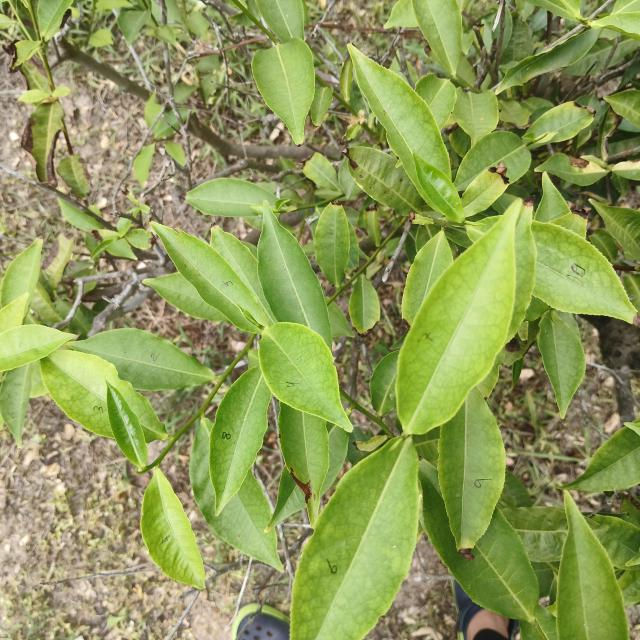Leaf: (396, 209, 517, 434), (418, 461, 539, 621), (348, 44, 450, 195), (151, 223, 274, 333), (190, 418, 280, 566), (40, 350, 168, 441), (438, 387, 505, 550), (556, 491, 628, 640), (531, 221, 636, 323), (258, 205, 332, 347), (259, 322, 352, 431), (209, 367, 271, 516), (71, 328, 214, 391), (141, 468, 205, 589), (252, 38, 315, 145), (497, 29, 600, 93), (210, 226, 275, 324), (278, 401, 329, 525), (347, 146, 425, 215), (537, 311, 585, 418), (401, 231, 453, 325), (564, 427, 640, 491), (454, 131, 531, 191), (143, 272, 226, 322), (412, 0, 462, 75), (501, 507, 568, 562), (21, 102, 63, 186), (186, 178, 275, 217), (523, 101, 594, 149), (0, 325, 74, 371), (414, 154, 464, 222), (107, 383, 147, 467), (0, 239, 42, 318), (589, 200, 640, 261), (314, 204, 350, 287), (0, 364, 35, 448), (587, 515, 640, 568), (453, 88, 498, 146), (535, 153, 608, 186), (461, 168, 509, 218), (415, 73, 456, 129), (255, 0, 304, 43), (320, 426, 349, 496), (370, 351, 399, 414), (270, 472, 304, 525), (534, 172, 570, 222), (42, 234, 74, 290), (349, 276, 380, 333), (58, 198, 103, 231), (589, 11, 640, 40), (37, 0, 73, 41), (303, 153, 340, 191), (58, 154, 89, 197), (604, 90, 640, 127), (117, 10, 151, 45), (0, 293, 28, 334), (133, 143, 155, 186), (327, 302, 353, 338), (69, 305, 95, 339), (468, 216, 501, 242), (311, 87, 333, 126), (14, 40, 41, 68), (364, 208, 381, 246), (106, 238, 136, 259), (184, 11, 209, 36), (124, 229, 152, 250), (149, 25, 177, 46), (144, 93, 161, 126), (174, 84, 197, 104), (18, 89, 50, 103), (166, 142, 185, 165), (89, 29, 113, 47), (196, 55, 220, 73), (55, 299, 72, 314)
